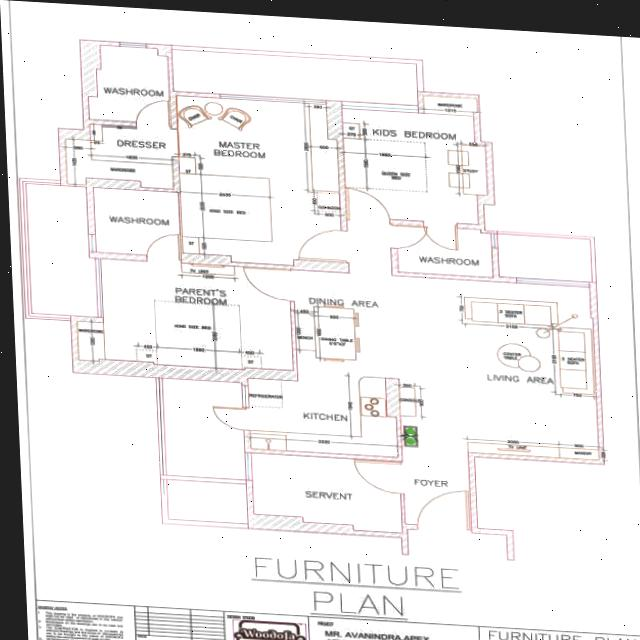room: (384, 276, 610, 460), (177, 89, 342, 269), (75, 257, 300, 373), (342, 95, 489, 228), (244, 370, 402, 458), (171, 51, 421, 105), (248, 453, 407, 533), (294, 267, 393, 381), (162, 376, 246, 482), (63, 123, 177, 189), (86, 45, 175, 124), (90, 188, 181, 257), (394, 226, 496, 278), (497, 235, 594, 283), (167, 480, 249, 522)
